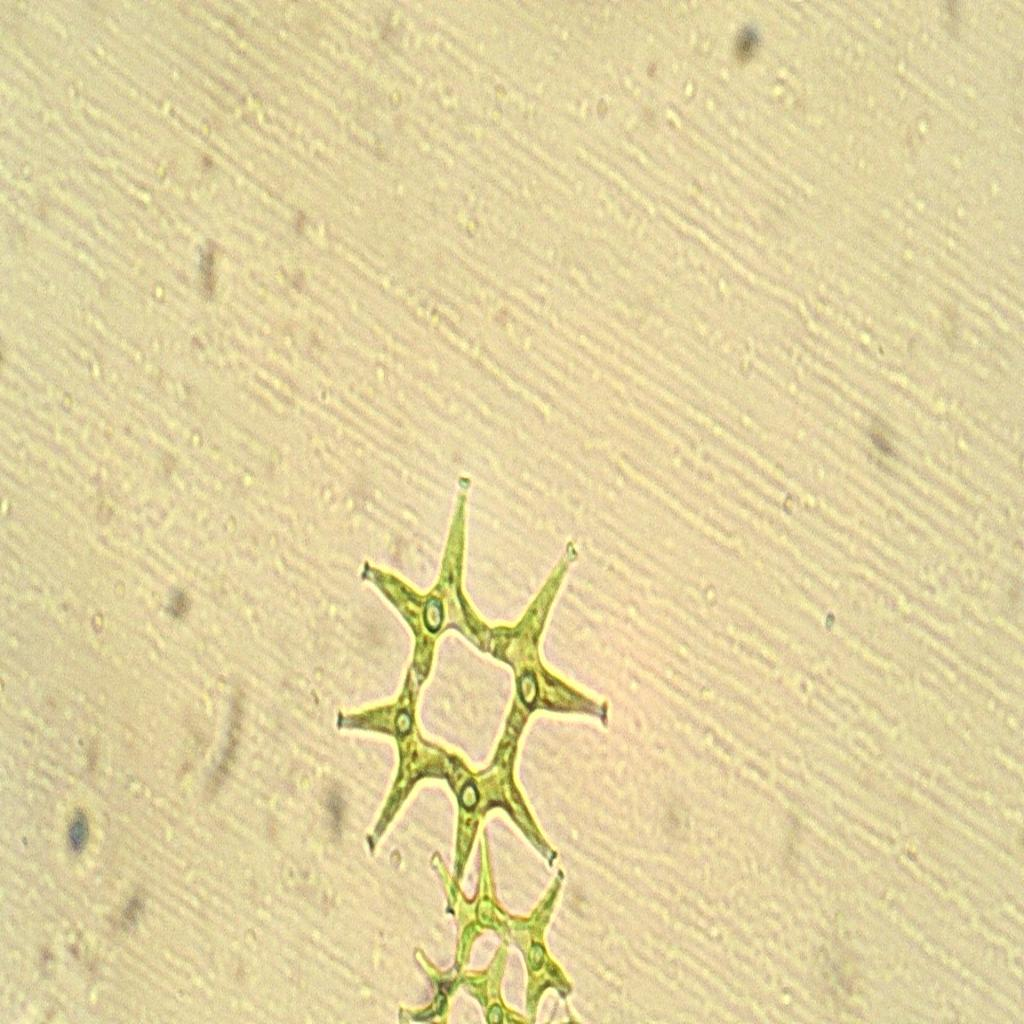Pediastrum_75O: (323, 456, 640, 952)
